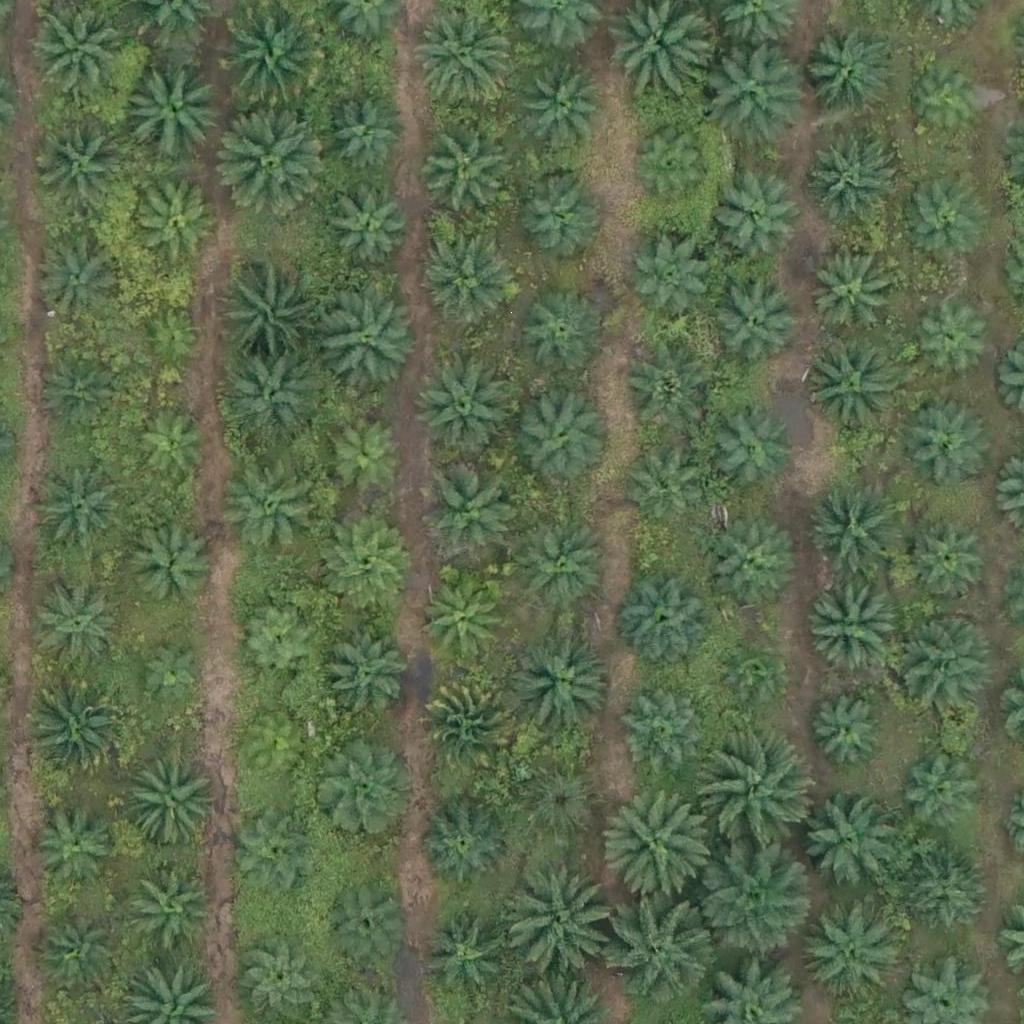Kelapa_Sawit: (501, 868, 614, 982), (696, 845, 809, 958), (607, 891, 720, 1004), (603, 787, 716, 900), (703, 735, 815, 849), (218, 2, 330, 115), (214, 101, 326, 214), (890, 611, 990, 712), (799, 899, 899, 1000), (617, 571, 717, 672), (509, 628, 609, 729), (29, 678, 129, 779), (123, 60, 223, 161), (226, 348, 326, 449), (222, 462, 322, 563), (319, 509, 419, 610), (322, 285, 422, 386), (418, 457, 518, 558), (421, 231, 521, 332), (511, 380, 611, 481), (509, 513, 609, 614), (708, 43, 808, 144), (803, 339, 903, 440), (806, 479, 906, 580), (804, 578, 904, 678), (798, 794, 898, 894), (313, 740, 413, 840), (422, 675, 522, 775), (123, 748, 223, 848), (413, 359, 513, 459), (807, 32, 895, 121), (899, 744, 987, 832), (511, 761, 599, 849), (323, 877, 411, 965), (416, 907, 504, 995), (620, 692, 708, 780), (416, 577, 504, 665), (421, 800, 509, 888), (27, 804, 115, 892), (34, 125, 122, 213), (34, 461, 122, 549), (132, 178, 220, 266), (516, 171, 604, 259), (517, 291, 605, 379), (631, 235, 719, 323), (624, 349, 712, 437), (709, 178, 797, 266), (713, 279, 801, 367), (705, 408, 793, 496), (807, 138, 895, 226), (234, 598, 322, 686), (36, 239, 123, 328), (323, 186, 410, 275), (519, 57, 606, 146), (902, 849, 989, 937), (316, 628, 403, 716), (230, 810, 317, 898), (132, 858, 219, 946), (38, 907, 125, 995), (38, 575, 125, 663), (28, 345, 115, 433), (127, 522, 214, 610), (225, 284, 312, 372), (226, 711, 313, 799), (324, 408, 411, 496), (327, 91, 414, 179), (421, 129, 508, 217), (622, 444, 709, 532), (625, 126, 712, 214), (712, 524, 799, 612), (810, 252, 897, 340), (905, 516, 992, 604), (905, 398, 992, 486), (912, 294, 999, 382), (900, 171, 987, 259), (910, 65, 985, 141), (809, 694, 884, 770), (137, 300, 212, 376), (134, 403, 209, 479), (135, 635, 210, 710), (720, 638, 782, 701)
